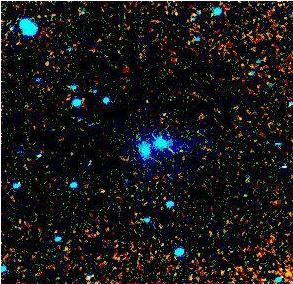star: (166, 134, 196, 164)
